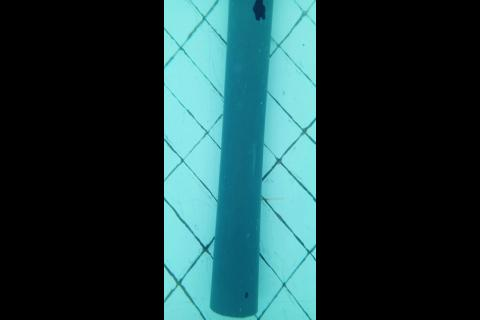kebocoran: (251, 0, 266, 22)
